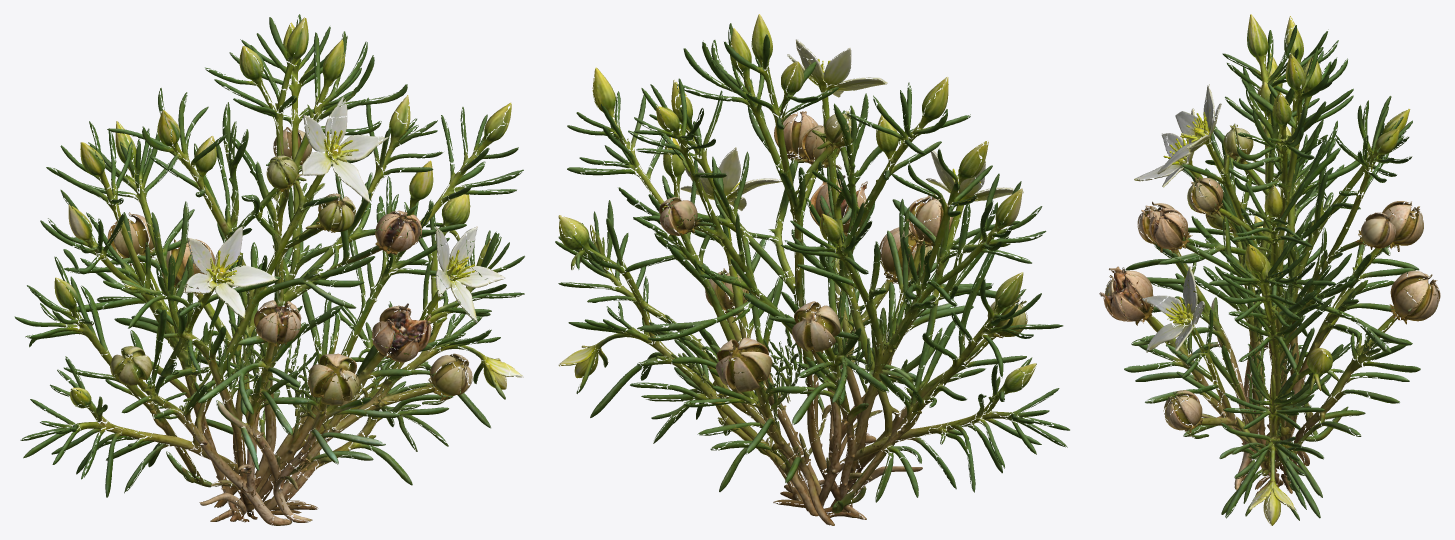
Rendered from harmal.glb.
3 renders of one model, left to right at view 1: azimuth 30°, elevation 25°; view 2: azimuth 150°, elevation 25°; view 3: azimuth 270°, elevation 25°, orthographic. The views are drawn at different scales.
Visible parts, largest first — view 1: tripo_node_7d14320b-7f56-457d-b773-716c269c5e75; view 2: tripo_node_7d14320b-7f56-457d-b773-716c269c5e75; view 3: tripo_node_7d14320b-7f56-457d-b773-716c269c5e75.
Part boxes in pixels (x1,y1,x2,y2): tripo_node_7d14320b-7f56-457d-b773-716c269c5e75: [14, 14, 524, 525]; tripo_node_7d14320b-7f56-457d-b773-716c269c5e75: [555, 14, 1069, 525]; tripo_node_7d14320b-7f56-457d-b773-716c269c5e75: [1099, 14, 1440, 525].
Bounding box in the file's own units: 0.9778 × 0.9073 × 0.627.
Materials: 1 (1 with a texture image).
